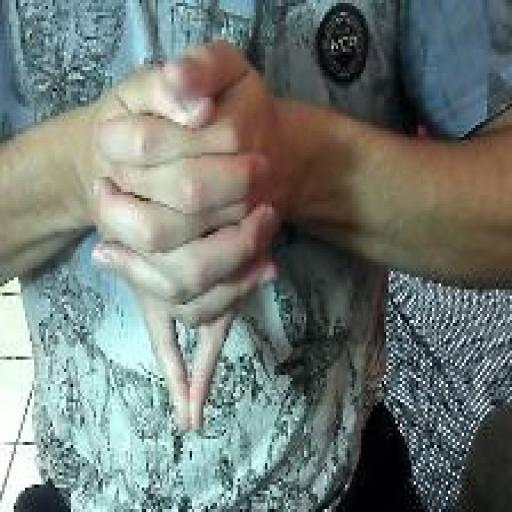Tatsu -dragon-: (87, 33, 286, 439)
